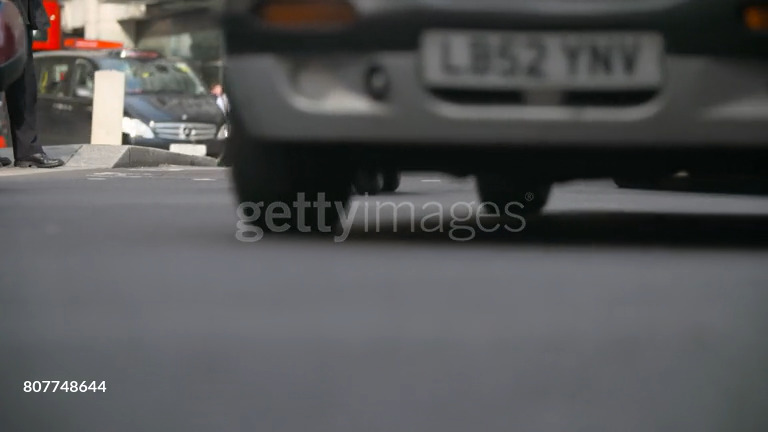car number: (424, 27, 660, 89)
